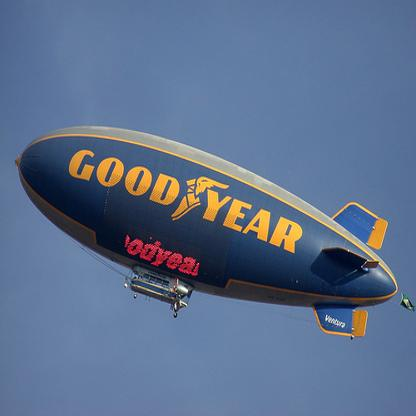Airship: (7, 114, 412, 352)
